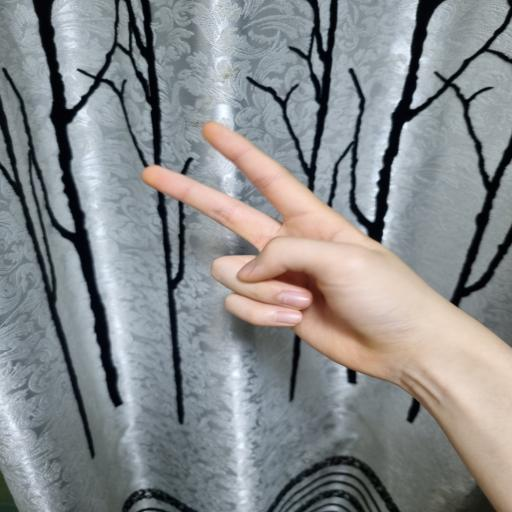Scissors: (141, 121, 512, 512)
